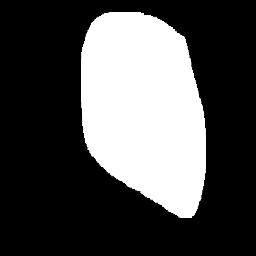mass: (81, 9, 203, 207)
